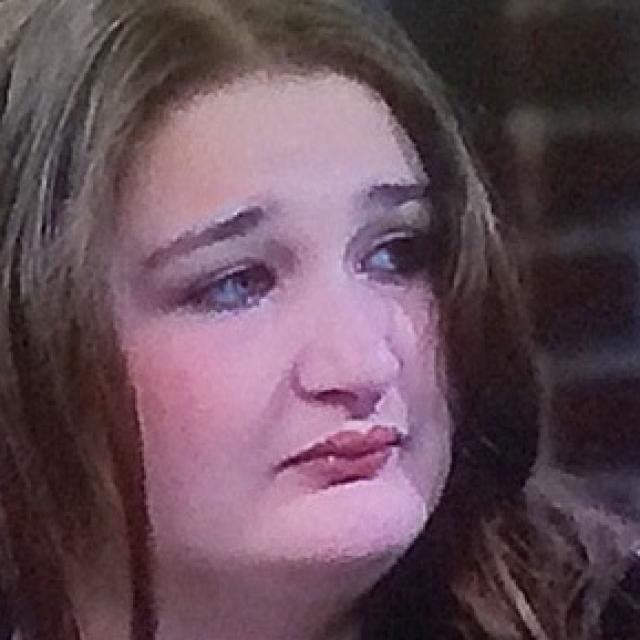Depress: (106, 65, 460, 569)
